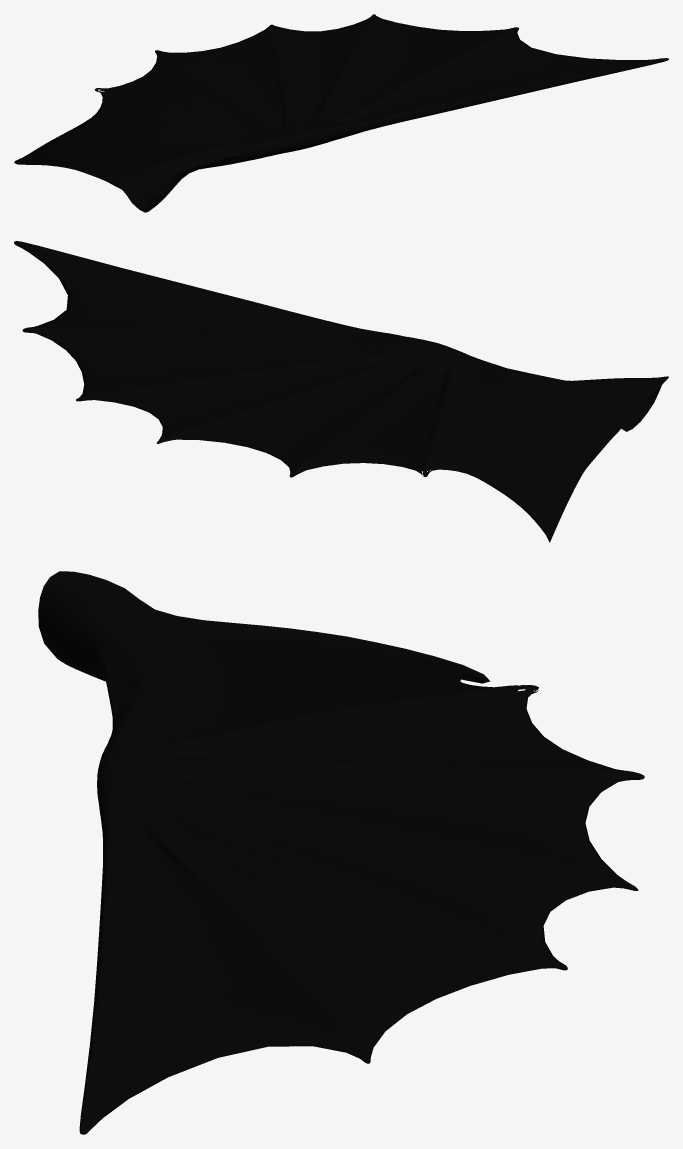
File: aladerd2.obj
3 views of the same model, one above another, from view 1: azimuth 30°, elevation 25°; view 2: azimuth 150°, elevation 25°; view 3: azimuth 270°, elevation 25° (orthographic). The views are drawn at different scales.
Parts seen in each view (by area): view 1: aladerd001; view 2: aladerd001; view 3: aladerd001.
Part boxes in pixels (left/top/right/bottom): aladerd001: left=14, top=14, right=668, bottom=212; aladerd001: left=14, top=241, right=668, bottom=542; aladerd001: left=38, top=571, right=644, bottom=1134.
Bounding box in the file's own units: 0.5682 × 0.058 × 0.2698.
Materials: 1 (1 with a texture image).
